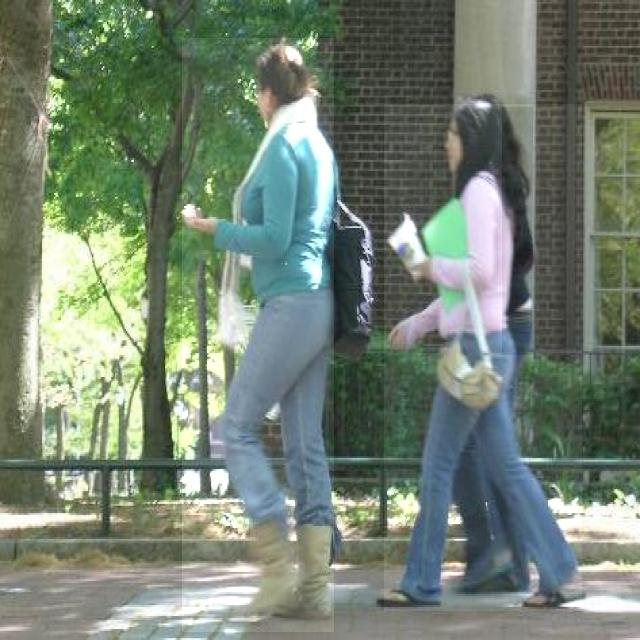with scooter: (384, 104, 582, 611), (182, 38, 334, 632), (502, 107, 533, 356)
